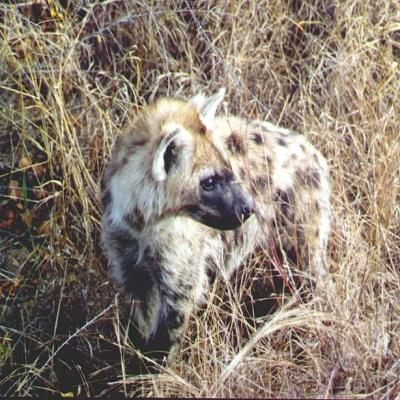hyenas: (78, 54, 400, 361)
